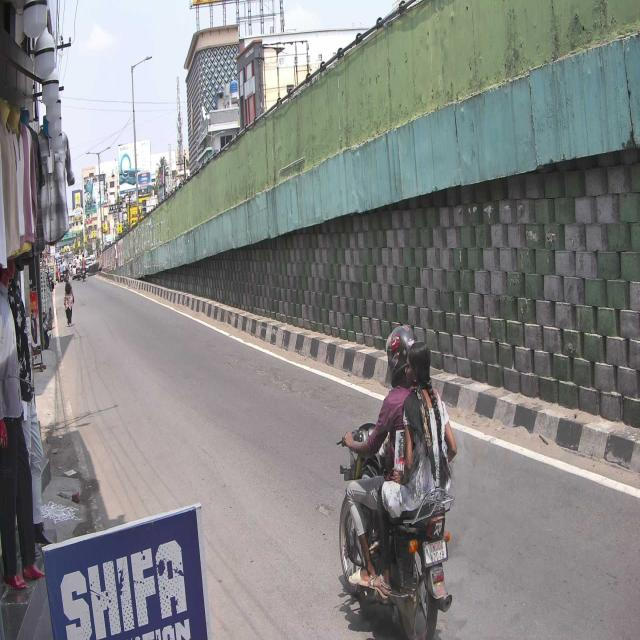double_rider: (337, 323, 454, 640)
